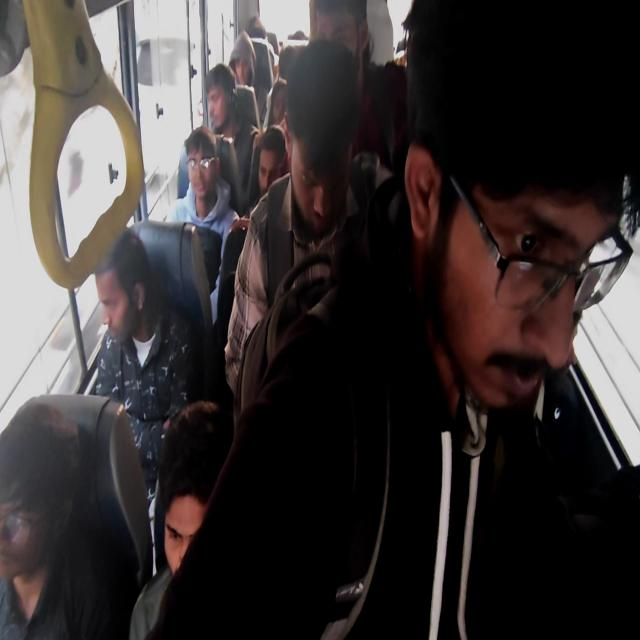person: (441, 55, 611, 406), (0, 437, 84, 580), (156, 457, 211, 627), (288, 69, 352, 207), (316, 8, 374, 102), (95, 243, 156, 331), (201, 69, 245, 141), (186, 137, 224, 216), (254, 149, 286, 219), (227, 45, 258, 94), (271, 75, 295, 130), (248, 17, 273, 57), (282, 49, 300, 73), (295, 27, 311, 52)
